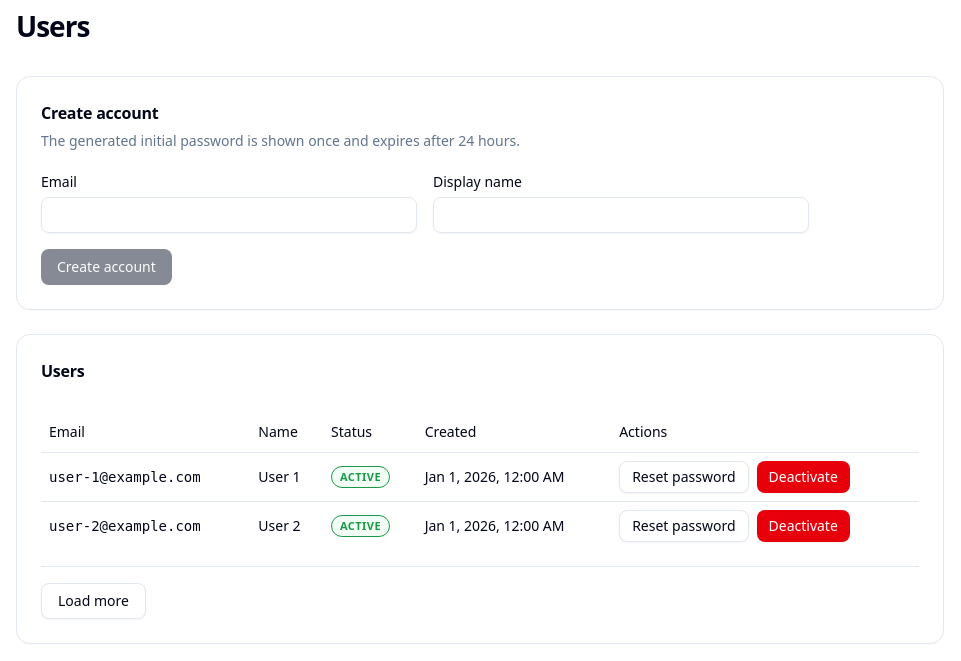
Test case: UsersPage (CAP-044 Slice 3 / AC 19) › accumulates rows across cursor pages via Load more, chaining the cursor in the second URL
Expected: the number of rows with test id "admin-user-row" is 2, [41,453,919,502]; [41,502,919,550]
Step 1. Click the button with test id "admin-users-load-more" → x=93, y=601, box [41,583,146,619]
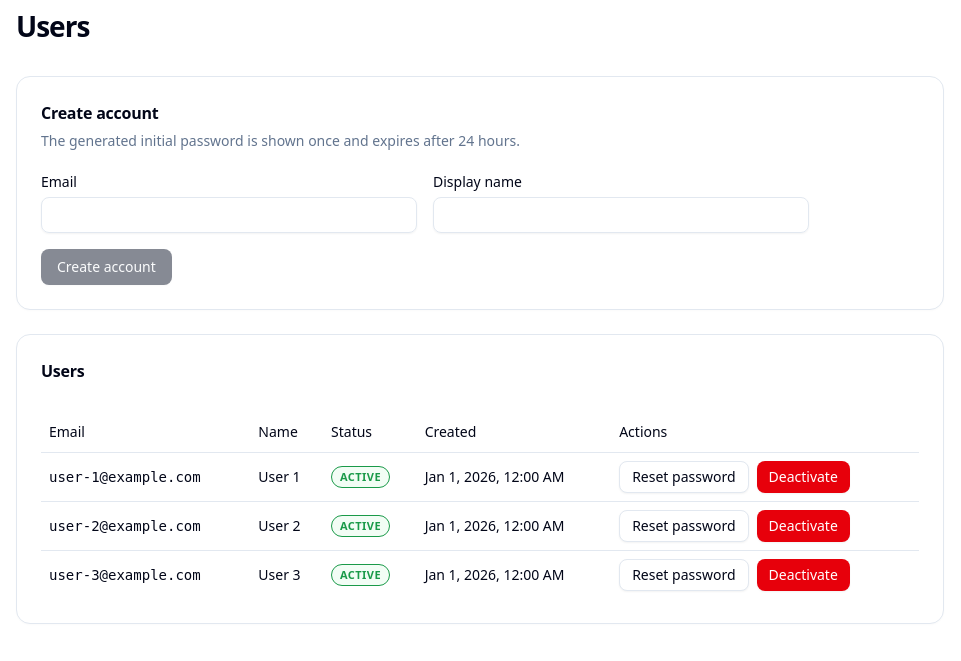
Result: the number of rows with test id "admin-user-row" is 3 at [41,453,919,502]; [41,502,919,551]; [41,551,919,599]
Result: the button with test id "admin-users-load-more" is gone
